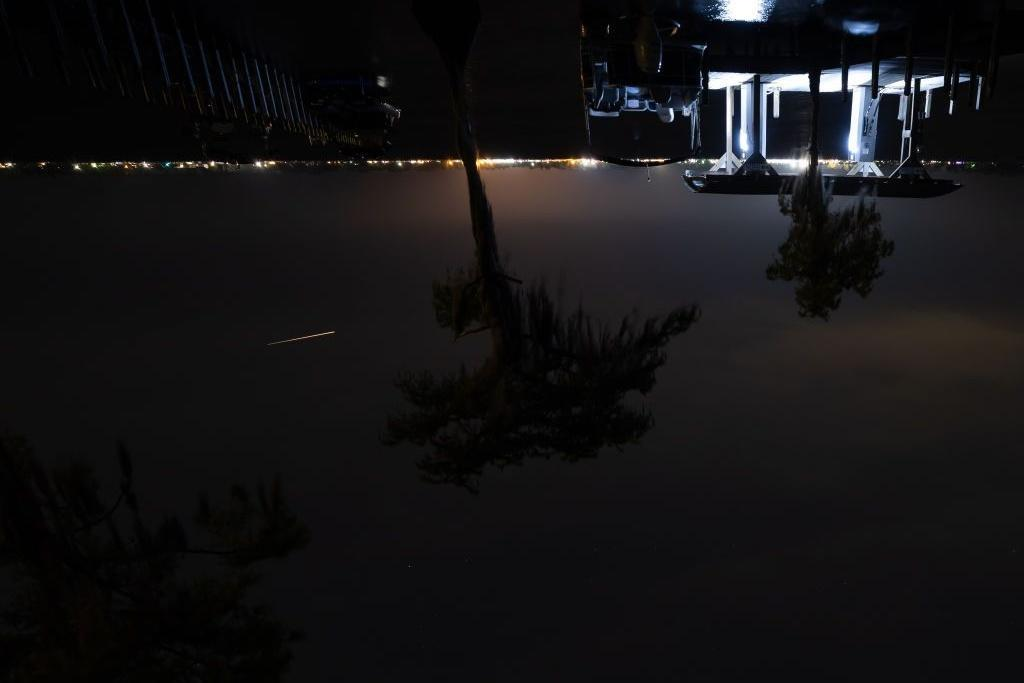meteorite: (238, 320, 358, 356)
